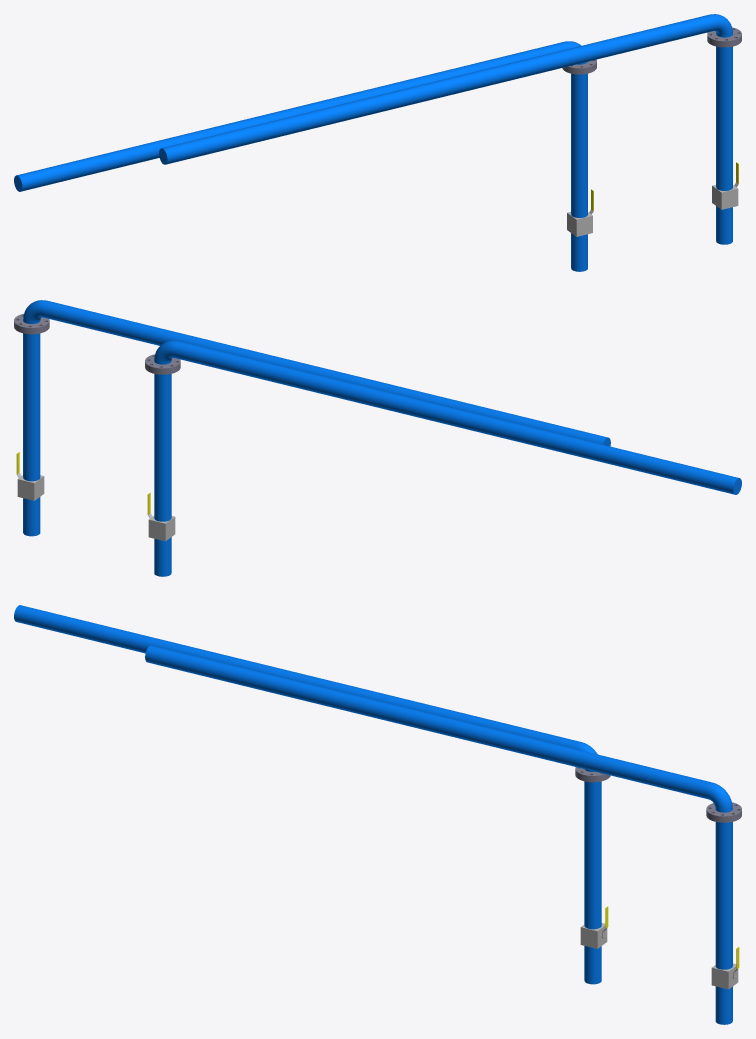
Rendered from PipeB.dae.
3 renders of one model, top to bottom at view 1: azimuth 30°, elevation 25°; view 2: azimuth 150°, elevation 25°; view 3: azimuth 330°, elevation 25°, orthographic. The views are drawn at different scales.
Parts seen in each view (by area): view 1: group_1 (×2), group_2 (×2); view 2: group_1 (×2), group_2 (×2); view 3: group_1 (×2).
Part boxes in pixels (bbox=[...]): group_1 (×2): bbox=[14, 14, 732, 271]; group_2 (×2): bbox=[567, 185, 738, 236]; group_1 (×2): bbox=[23, 300, 741, 576]; group_2 (×2): bbox=[17, 475, 175, 541]; group_1 (×2): bbox=[14, 605, 732, 1024].
Bounding box in the file's own units: 172 × 10.83 × 52.9.
